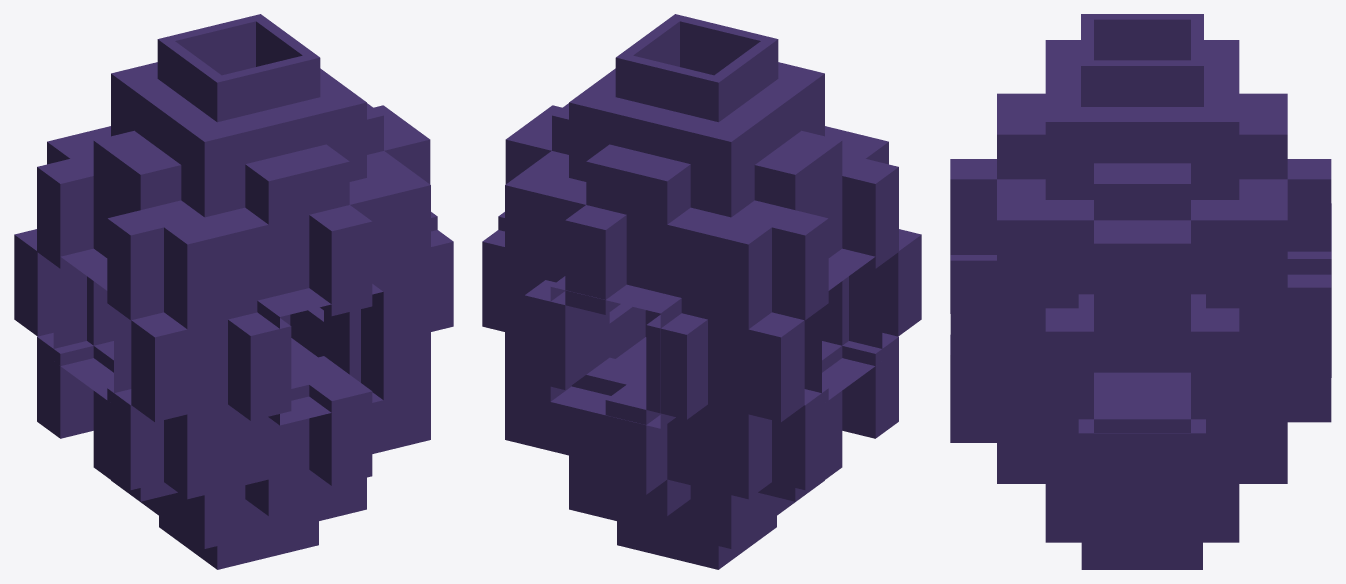
File: tower.fbx
3 views of the same model, side by side, from view 1: azimuth 30°, elevation 25°; view 2: azimuth 150°, elevation 25°; view 3: azimuth 270°, elevation 25° (orthographic). The views are drawn at different scales.
Parts seen in each view (by area): view 1: Plane; view 2: Plane; view 3: Plane.
Part boxes in pixels (<box>): Plane: <box>14,14,453,569</box>; Plane: <box>482,14,921,569</box>; Plane: <box>950,14,1331,569</box>.
Size of the model in its own units: 16.74 by 24.15 by 16.55.
